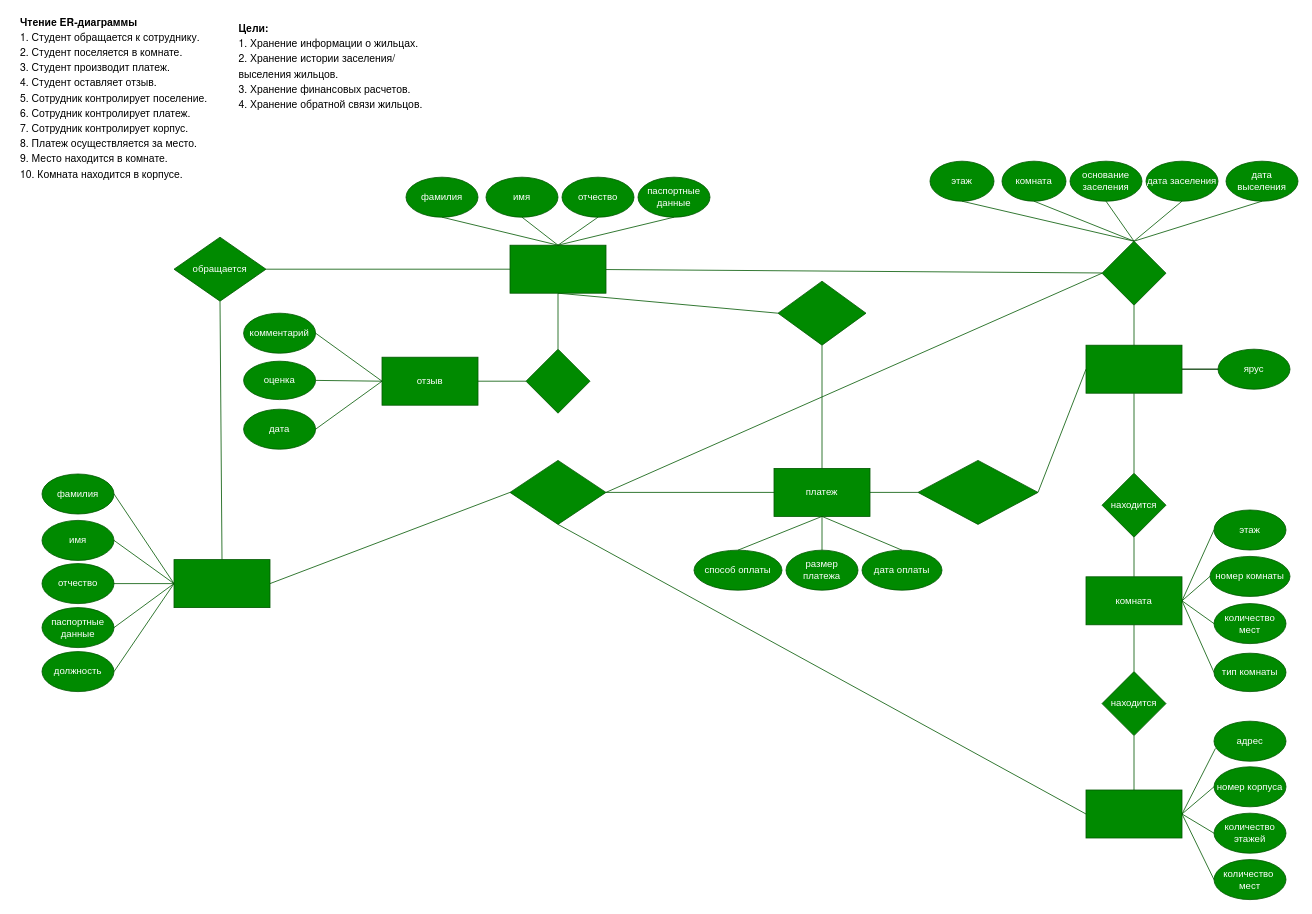
Image size: 1312x914. Some labels were removed from this diagram. The box of each missing label's shape, as (x1, y1, x2, y2) in pixels:
контролирует: (509, 460, 606, 524)
корпус: (1085, 789, 1182, 838)
место: (1085, 344, 1182, 393)
оставляет: (525, 348, 590, 413)
осуществляется за: (917, 460, 1038, 524)
поселяется: (1101, 240, 1166, 305)
производит: (777, 280, 866, 345)
сотрудник: (173, 559, 270, 608)
студент: (509, 244, 606, 293)
